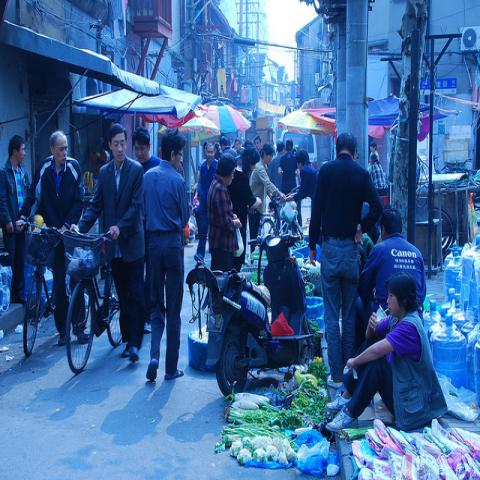car: (279, 128, 316, 168)
motorcycle: (185, 235, 315, 399)
